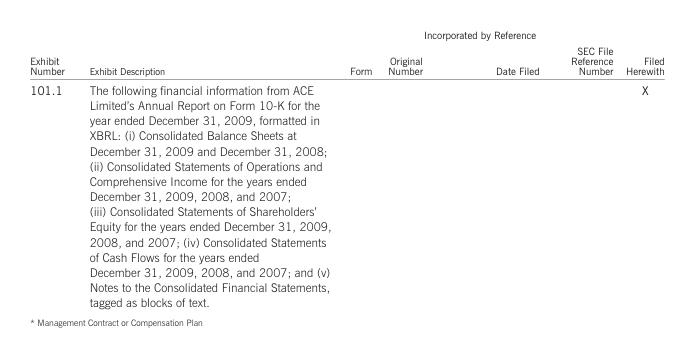table: (29, 28, 663, 308)
table column: (76, 28, 339, 308), (458, 28, 554, 308), (379, 28, 458, 308), (554, 28, 618, 308), (29, 28, 76, 308), (618, 28, 663, 308), (339, 28, 379, 308)
table column header: (29, 28, 663, 79)
table row: (29, 79, 663, 308), (29, 42, 663, 79), (29, 28, 663, 42)
table spanning cell: (76, 28, 339, 79), (339, 28, 618, 42), (29, 28, 76, 79), (618, 28, 663, 79)
